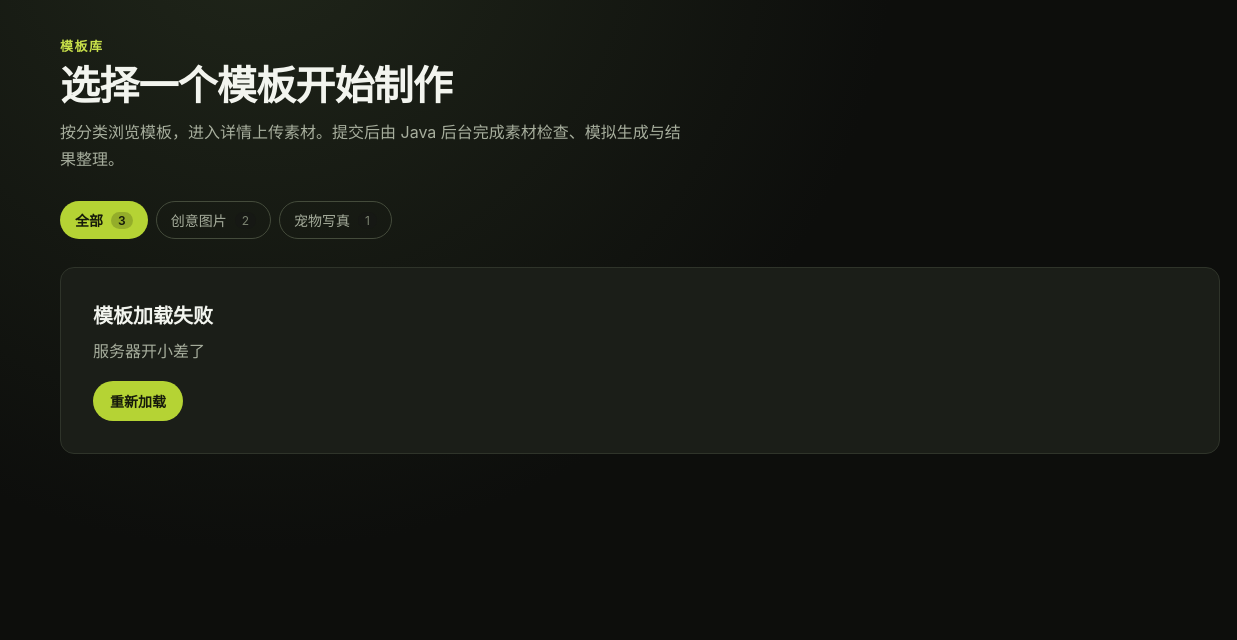
Scenario: TemplateList（TC-FE-15 列表异常/空态） › 加载失败显示错误态，重试后恢复列表
Expected: the heading "模板加载失败" is shown, [93,300,213,329]
Expected: the message shows "服务器开小差了", [93,341,205,361]
Click the button "重新加载". click: (138, 401)
box: [93,381,183,421]
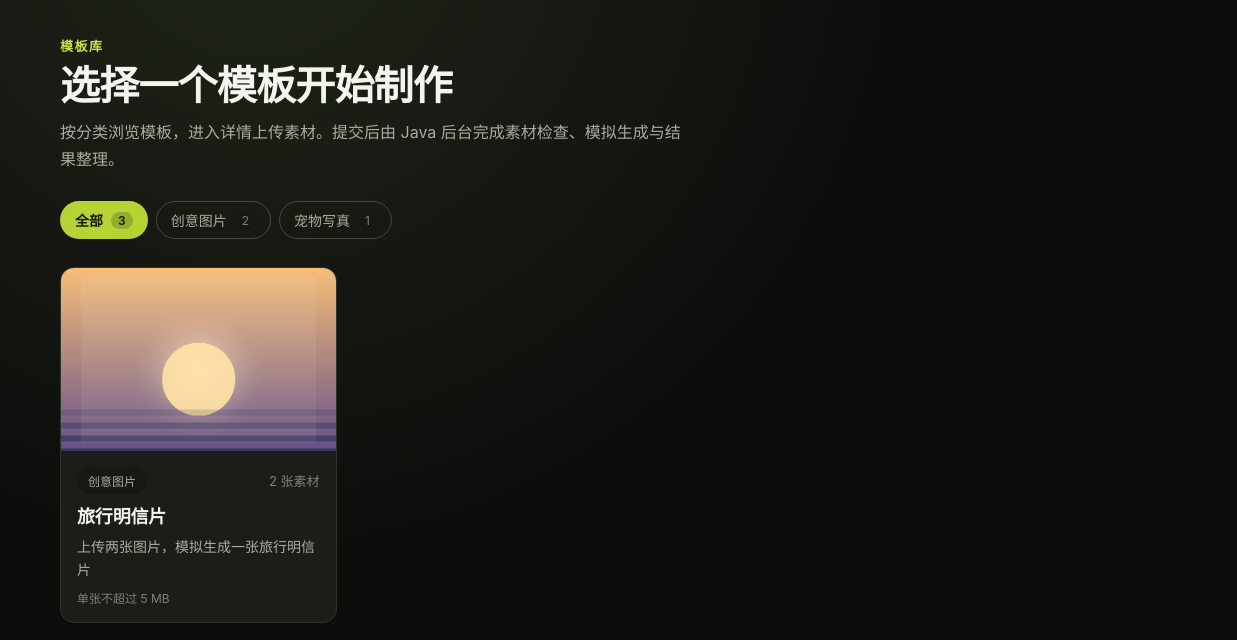
Expected: the link "创意图片 2 张素材 旅行明信片 上传两张图片，模拟生成一张旅行明信片 单张不超过 5 MB" is shown, [60,267,336,623]
Expected: the heading "模板加载失败" is gone
